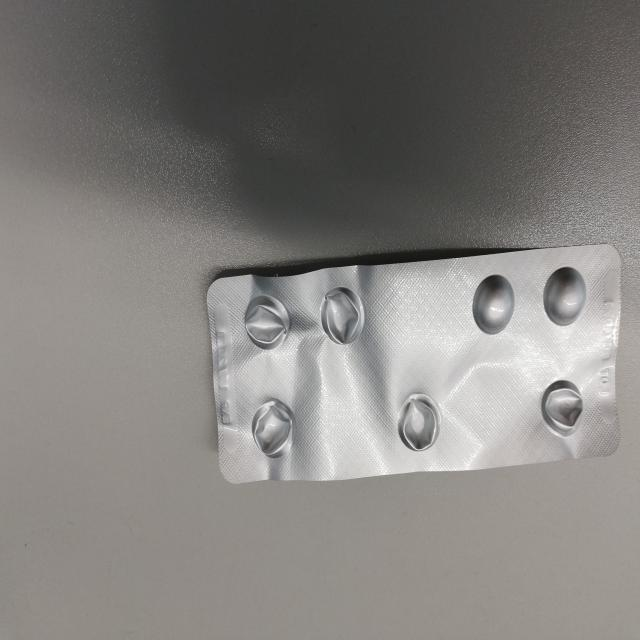Empty: (248, 394, 298, 462), (316, 282, 367, 348), (393, 390, 442, 456), (537, 376, 588, 439), (240, 291, 293, 351)
Pill: (469, 270, 518, 337), (541, 263, 588, 330)
